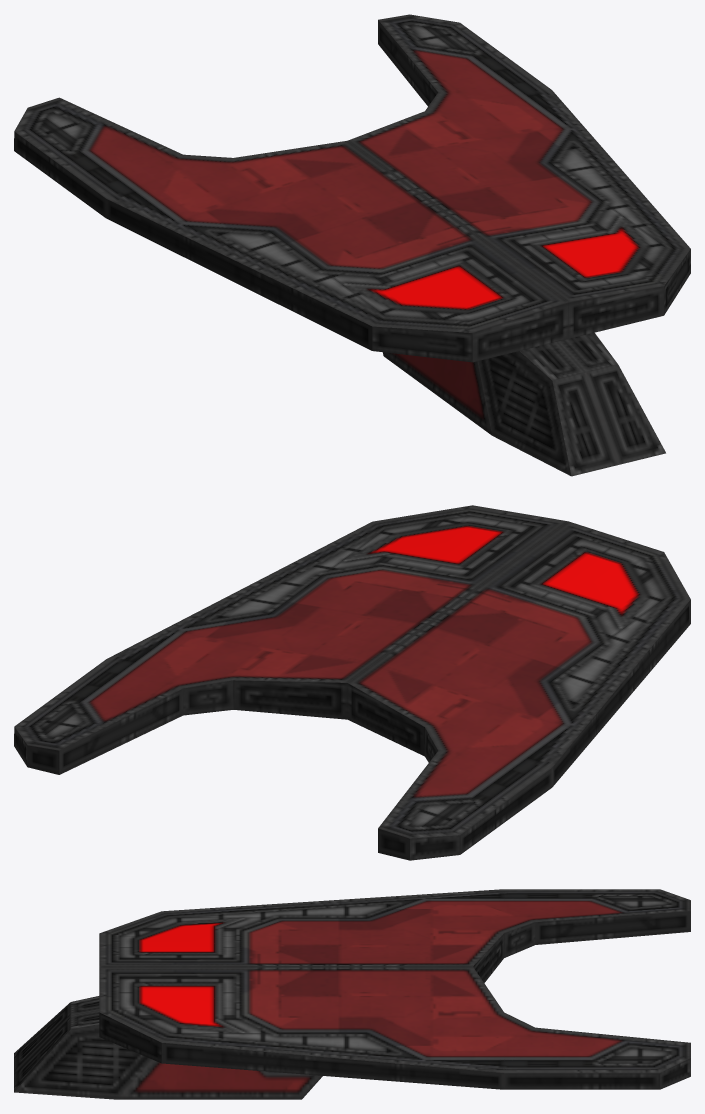
Rendered from BFP_ConstTopFinSection01.FBX.
The picture shows the model from 3 angles, top to bottom: view 1: azimuth 30°, elevation 25°; view 2: azimuth 150°, elevation 25°; view 3: azimuth 270°, elevation 25°; orthographic projection. The views are drawn at different scales.
Visible parts, largest first — view 1: BFP_ConstTopFinSection01; view 2: BFP_ConstTopFinSection01; view 3: BFP_ConstTopFinSection01.
Part boxes in pixels (left/top/right/bottom): BFP_ConstTopFinSection01: left=14, top=14, right=690, bottom=476; BFP_ConstTopFinSection01: left=14, top=505, right=690, bottom=860; BFP_ConstTopFinSection01: left=14, top=889, right=690, bottom=1099.
Bounding box in the file's own units: 140 × 37.64 × 217.
Materials: 1 (1 with a texture image).
